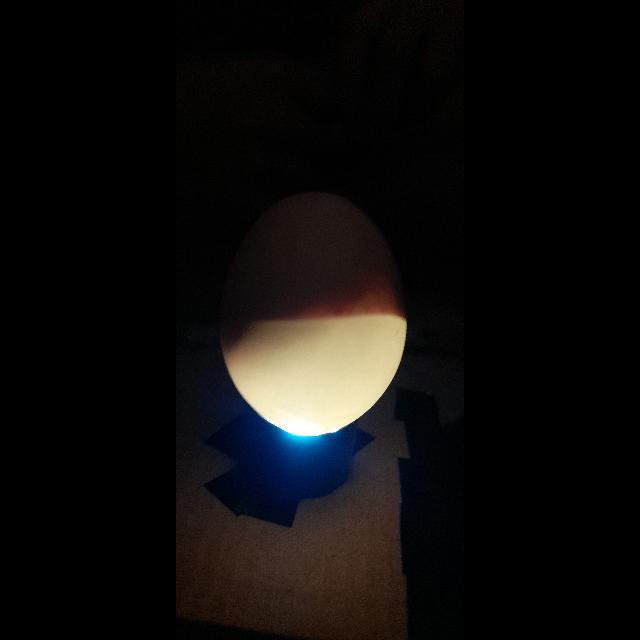Fertile: (220, 182, 406, 438)
